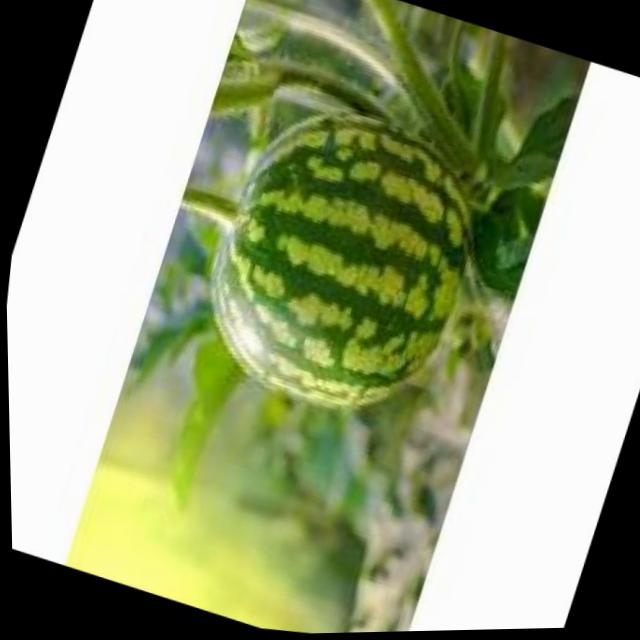watermelon: (194, 94, 491, 424)
